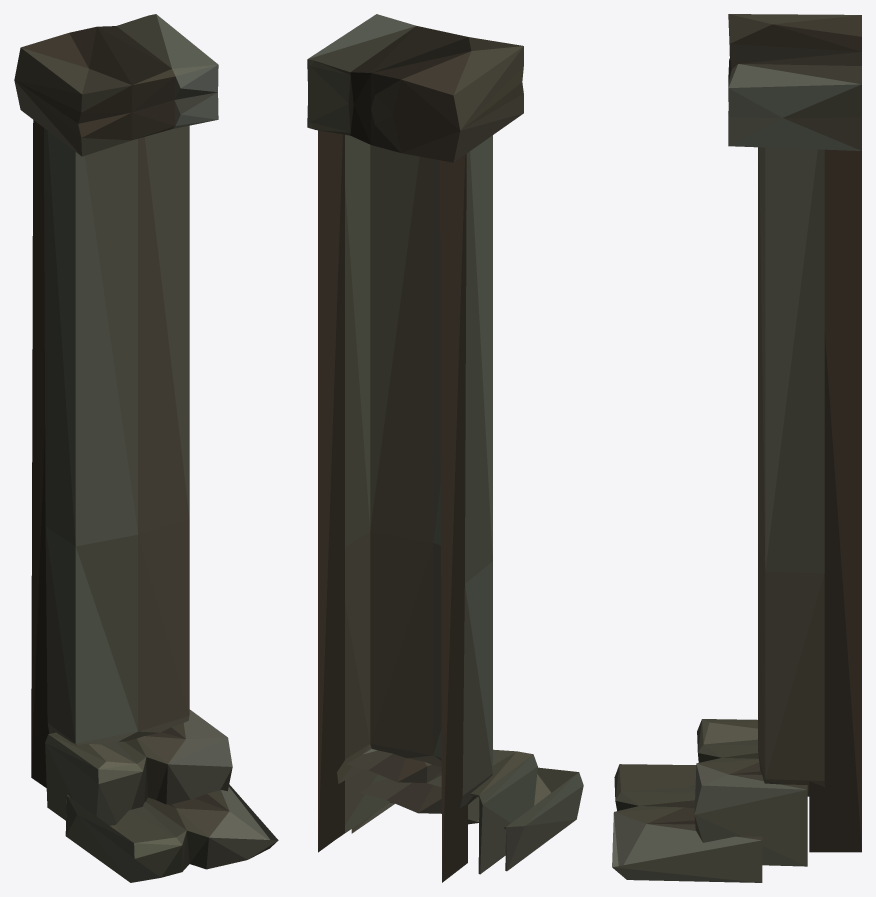
The model's file is wall_A_1m.fbx.
3 views of the same model, side by side, from view 1: azimuth 30°, elevation 25°; view 2: azimuth 150°, elevation 25°; view 3: azimuth 270°, elevation 25° (orthographic). The views are drawn at different scales.
Visible parts, largest first — view 1: wall_A_1m; view 2: wall_A_1m; view 3: wall_A_1m.
Boxes of the visible parts, x1,y1,x2,y2 form: wall_A_1m: (14,14,278,882); wall_A_1m: (307,14,583,882); wall_A_1m: (612,14,861,882).
Bounding box in the file's own units: 1.29 × 6.3 × 1.79.
